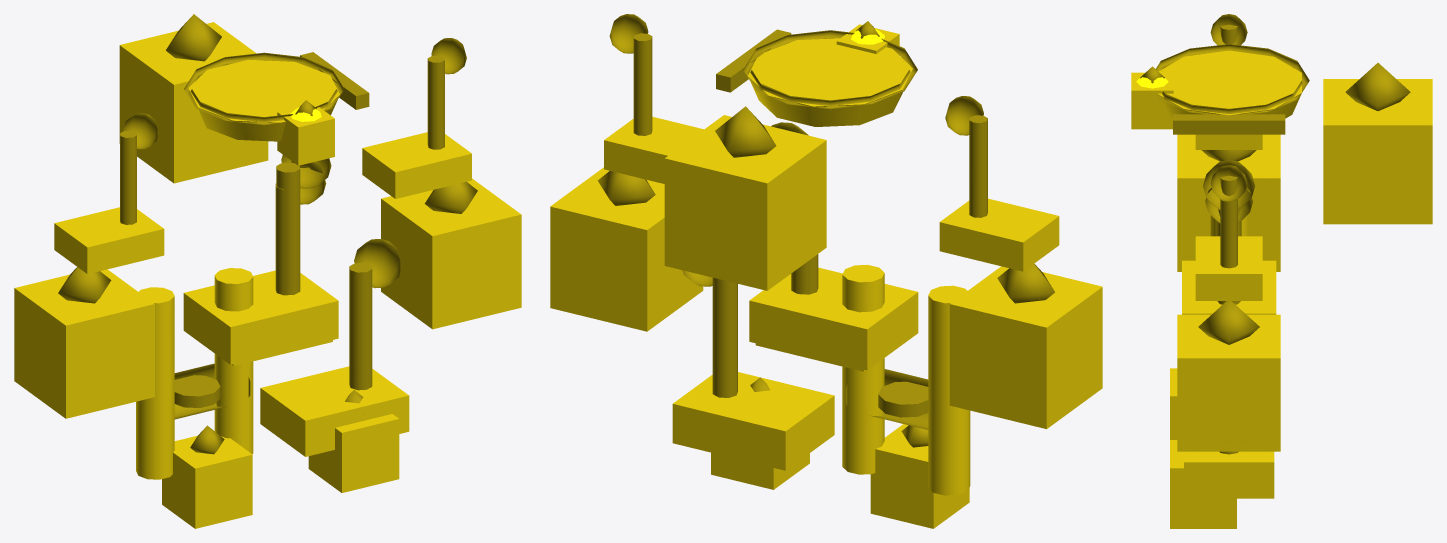
File: golem_025.glb
3 views of the same model, side by side, from view 1: azimuth 30°, elevation 25°; view 2: azimuth 150°, elevation 25°; view 3: azimuth 270°, elevation 25° (orthographic). The views are drawn at different scales.
Parts seen in each view (by area): view 1: Body, Detail; view 2: Body, Detail; view 3: Body, Detail.
Boxes of the visible parts, <box> form: Body: <box>14,22,521,528</box>; Detail: <box>58,14,477,454</box>; Body: <box>550,24,1102,528</box>; Detail: <box>597,14,1054,447</box>; Body: <box>1131,50,1432,528</box>; Detail: <box>1140,14,1410,454</box>.
Bounding box in the file's own units: 1.22 × 1.06 × 0.6944.
